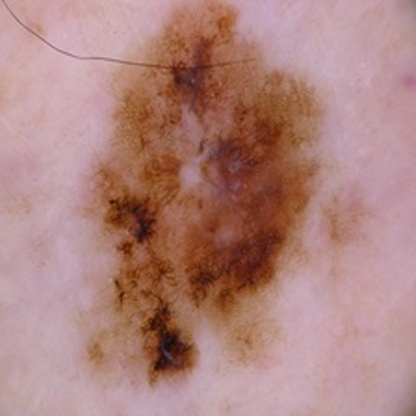malignant: (125, 23, 313, 364)
